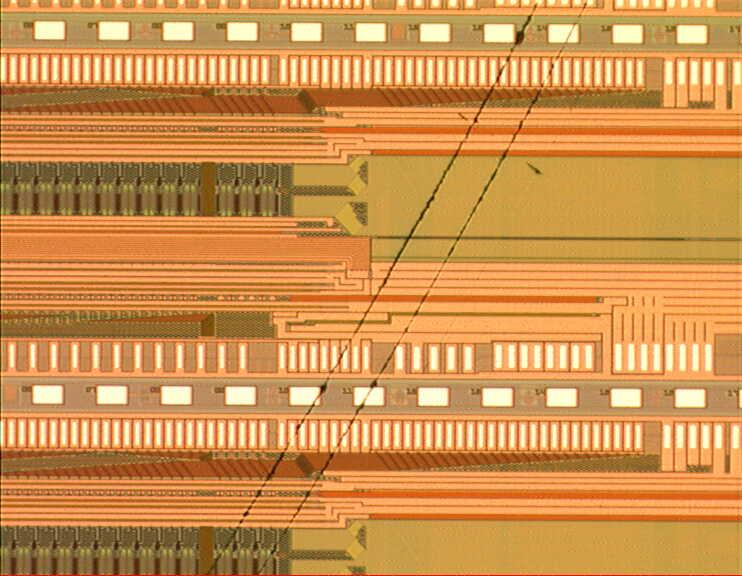SCRATCH: (194, 1, 544, 576), (248, 1, 594, 576)
